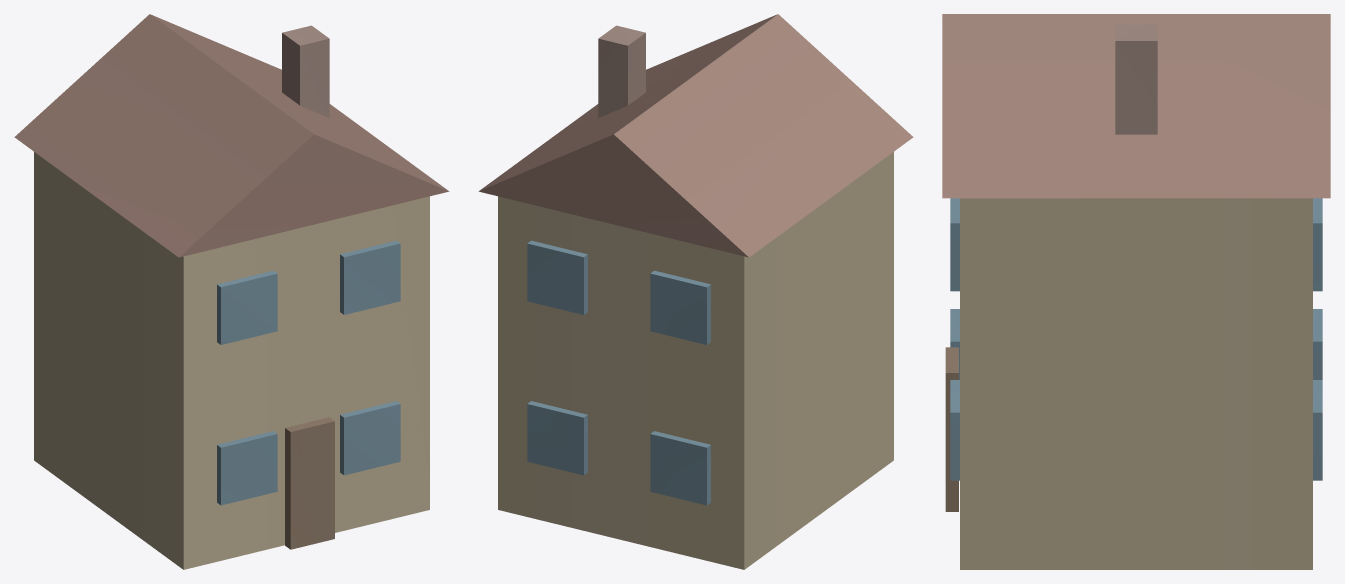
Rendered from cottage-03.glb.
The picture shows the model from 3 angles, left to right: view 1: azimuth 30°, elevation 25°; view 2: azimuth 150°, elevation 25°; view 3: azimuth 270°, elevation 25°; orthographic projection. The views are drawn at different scales.
Visible parts, largest first — view 1: world; view 2: world; view 3: world.
Part boxes in pixels (box(x1,y1,x2,y2)): world: box(14, 14, 449, 569); world: box(478, 14, 913, 569); world: box(942, 14, 1330, 569).
Size of the model in its own units: 0.9633 by 1.47 by 1.01.
